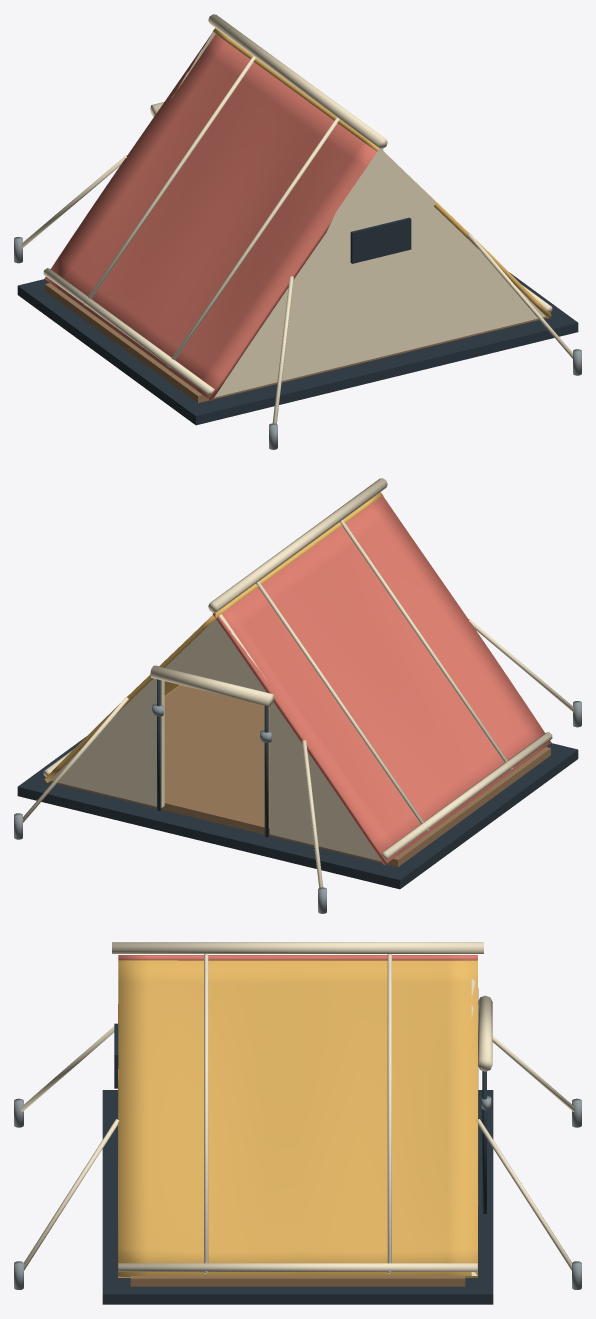
The model's file is AH03_Tent.fbx.
The picture shows the model from 3 angles, top to bottom: view 1: azimuth 30°, elevation 25°; view 2: azimuth 150°, elevation 25°; view 3: azimuth 270°, elevation 25°; orthographic projection. The views are drawn at different scales.
Visible parts, largest first — view 1: AH03_Tent_AH03_CanvasRose, AH03_Tent_AH03_Cream, AH03_Tent_AH03_Dark, AH03_Tent_AH03_Wood, AH03_Tent_AH03_CanvasGold, AH03_Tent_AH03_Metal; view 2: AH03_Tent_AH03_CanvasRose, AH03_Tent_AH03_Cream, AH03_Tent_AH03_Wood, AH03_Tent_AH03_Dark, AH03_Tent_AH03_CanvasGold, AH03_Tent_AH03_Metal; view 3: AH03_Tent_AH03_CanvasGold, AH03_Tent_AH03_Cream, AH03_Tent_AH03_Dark, AH03_Tent_AH03_Wood, AH03_Tent_AH03_CanvasRose, AH03_Tent_AH03_Metal.
Part boxes in pixels (left/top/right/bottom): AH03_Tent_AH03_CanvasRose: left=44, top=32, right=382, bottom=400; AH03_Tent_AH03_Cream: left=21, top=14, right=572, bottom=423; AH03_Tent_AH03_Dark: left=17, top=217, right=578, bottom=425; AH03_Tent_AH03_Wood: left=45, top=283, right=550, bottom=402; AH03_Tent_AH03_CanvasGold: left=212, top=28, right=551, bottom=318; AH03_Tent_AH03_Metal: left=14, top=237, right=581, bottom=449; AH03_Tent_AH03_CanvasRose: left=213, top=496, right=551, bottom=864; AH03_Tent_AH03_Cream: left=23, top=478, right=574, bottom=887; AH03_Tent_AH03_Wood: left=45, top=685, right=550, bottom=866; AH03_Tent_AH03_Dark: left=17, top=679, right=578, bottom=889; AH03_Tent_AH03_CanvasGold: left=44, top=492, right=383, bottom=782; AH03_Tent_AH03_Metal: left=14, top=701, right=581, bottom=913; AH03_Tent_AH03_CanvasGold: left=118, top=960, right=478, bottom=1277; AH03_Tent_AH03_Cream: left=21, top=942, right=574, bottom=1275; AH03_Tent_AH03_Dark: left=102, top=1023, right=493, bottom=1304; AH03_Tent_AH03_Wood: left=130, top=1276, right=465, bottom=1286; AH03_Tent_AH03_CanvasRose: left=118, top=955, right=478, bottom=1023; AH03_Tent_AH03_Metal: left=14, top=1095, right=581, bottom=1289.
Size of the model in its own units: 390 by 235 by 458.
